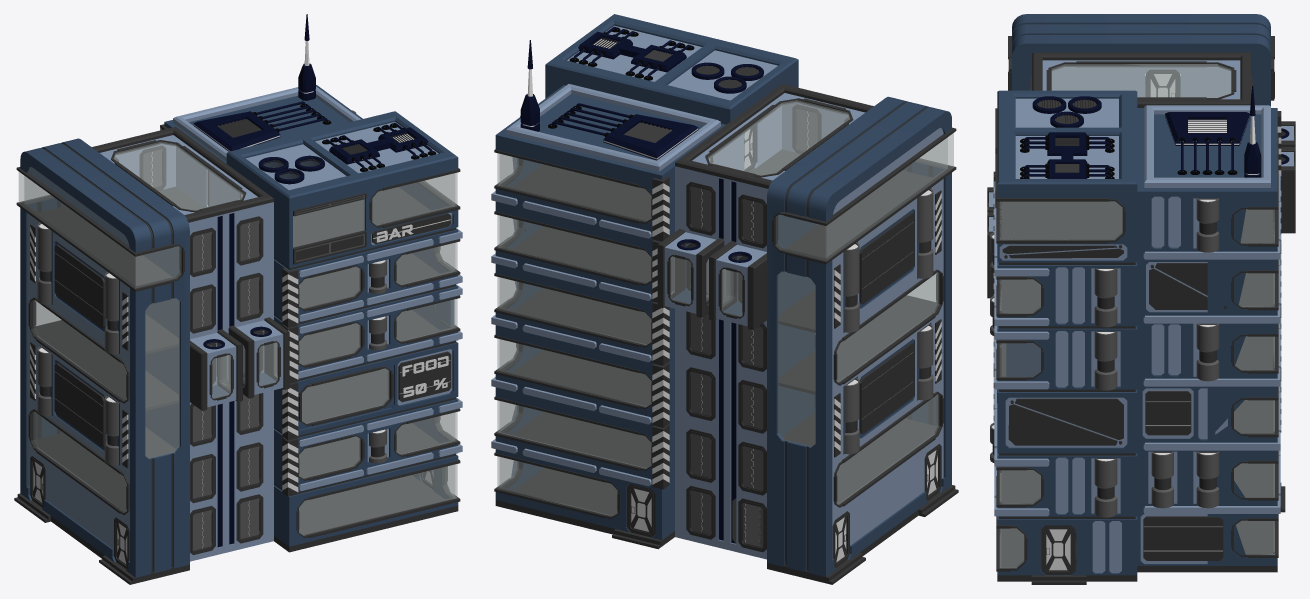
File: 5story finish.fbx
3 views of the same model, side by side, from view 1: azimuth 30°, elevation 25°; view 2: azimuth 150°, elevation 25°; view 3: azimuth 270°, elevation 25° (orthographic). The views are drawn at different scales.
Parts seen in each view (by area): view 1: main Building, main Building.019, main Building.020, main Building.004, main Building.003; view 2: main Building, main Building.008, main Building.018, main Building.002, main Building.003, main Building.004; view 3: main Building, main Building.001, main Building.018, main Building.006, main Building.020.
Boxes of the visible parts, <box> form: main Building: <box>14,14,462,584</box>; main Building.019: <box>190,329,242,410</box>; main Building.020: <box>228,317,289,398</box>; main Building.004: <box>114,517,129,569</box>; main Building.003: <box>30,456,45,507</box>; main Building: <box>491,14,958,584</box>; main Building.008: <box>709,241,766,330</box>; main Building.018: <box>657,229,724,317</box>; main Building.002: <box>626,484,655,537</box>; main Building.003: <box>832,511,849,567</box>; main Building.004: <box>924,444,941,500</box>; main Building: <box>990,14,1285,584</box>; main Building.001: <box>1041,525,1075,574</box>; main Building.018: <box>1281,147,1295,233</box>; main Building.006: <box>1146,69,1179,97</box>; main Building.020: <box>987,212,993,298</box>.
Bounding box in the file's own units: 6.07 × 7.48 × 4.4.
